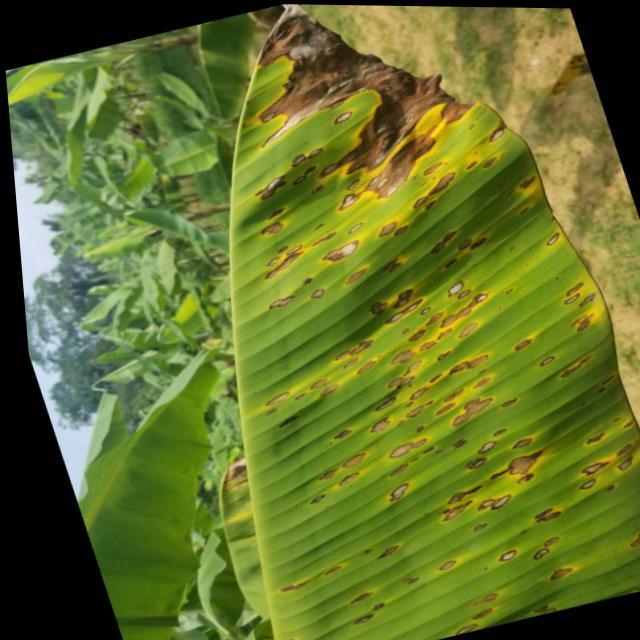Early_rust: (185, 4, 640, 628), (180, 408, 269, 580)
